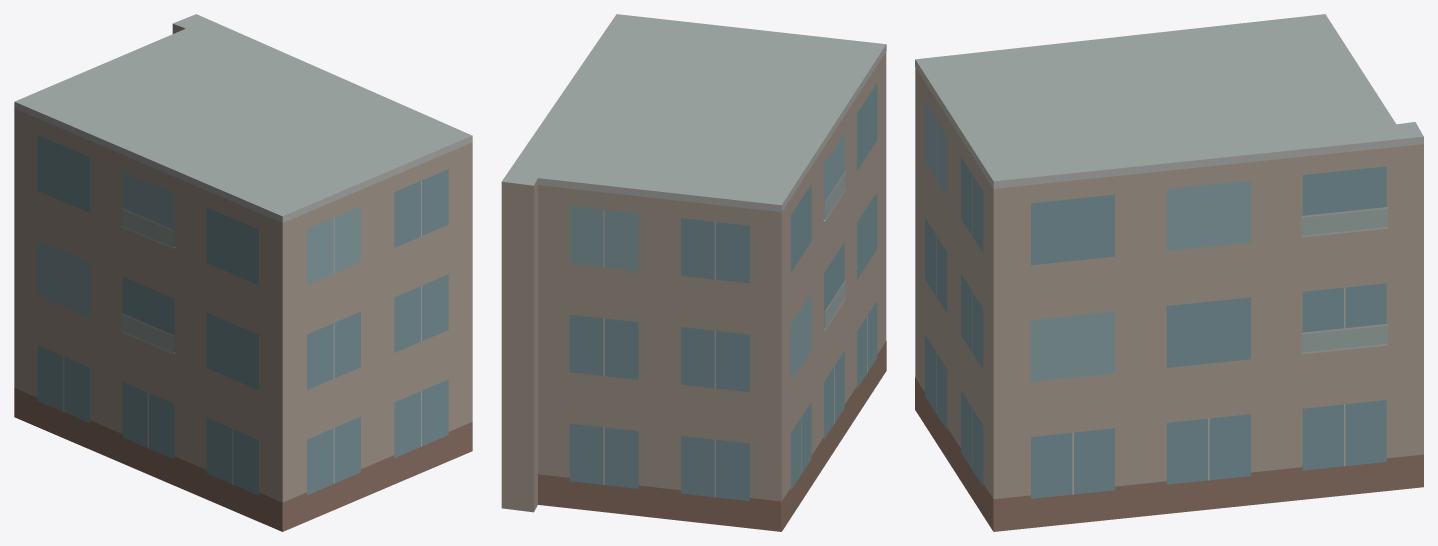
File: survey-upis-33032691.glb
3 views of the same model, side by side, from view 1: azimuth 30°, elevation 25°; view 2: azimuth 150°, elevation 25°; view 3: azimuth 270°, elevation 25° (orthographic). The views are drawn at different scales.
Parts seen in each view (by area): view 1: survey-upis-33032691.tmp; view 2: survey-upis-33032691.tmp; view 3: survey-upis-33032691.tmp.
Part boxes in pixels (bbox=[...]): survey-upis-33032691.tmp: bbox=[14, 14, 472, 531]; survey-upis-33032691.tmp: bbox=[501, 14, 886, 531]; survey-upis-33032691.tmp: bbox=[915, 14, 1423, 531].
Size of the model in its own units: 11.79 by 11.5 by 15.13.
